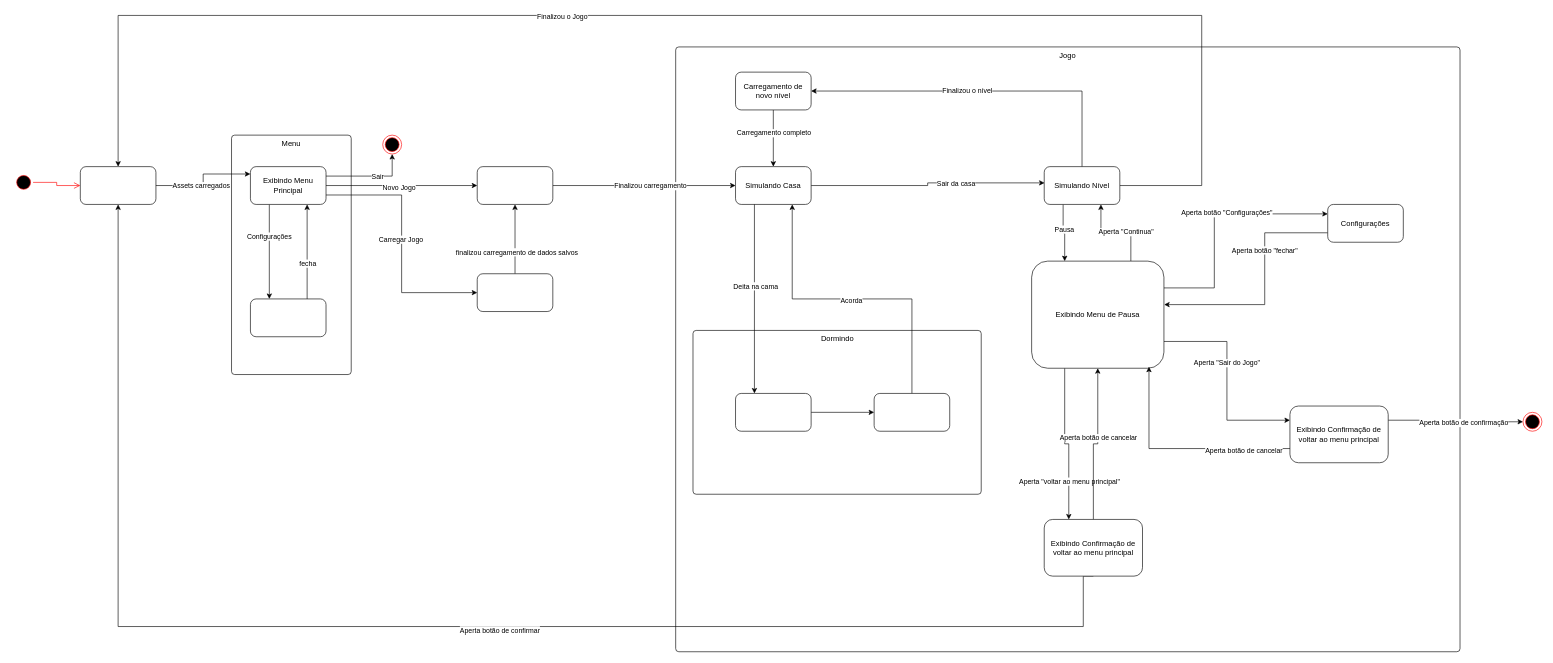
This 1553x663 diagram has some shape labels left out. Here are the shapes that lost their labels. From the top down, the box of each, then its label:
(80, 166, 156, 204): Carregando Menu
(477, 166, 553, 204): Carregamendo Nível
(477, 273, 553, 312): Carregando Dados Salvos
(250, 298, 326, 337): Exibindo configurações
(735, 393, 811, 431): Salvando Jogo
(873, 393, 950, 431): Atualizando Objetos no mapa
